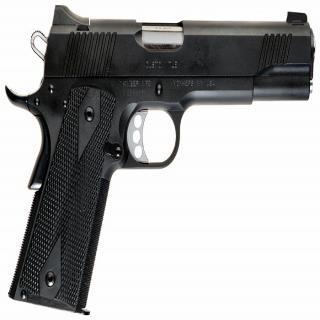gun: (2, 4, 315, 318)
